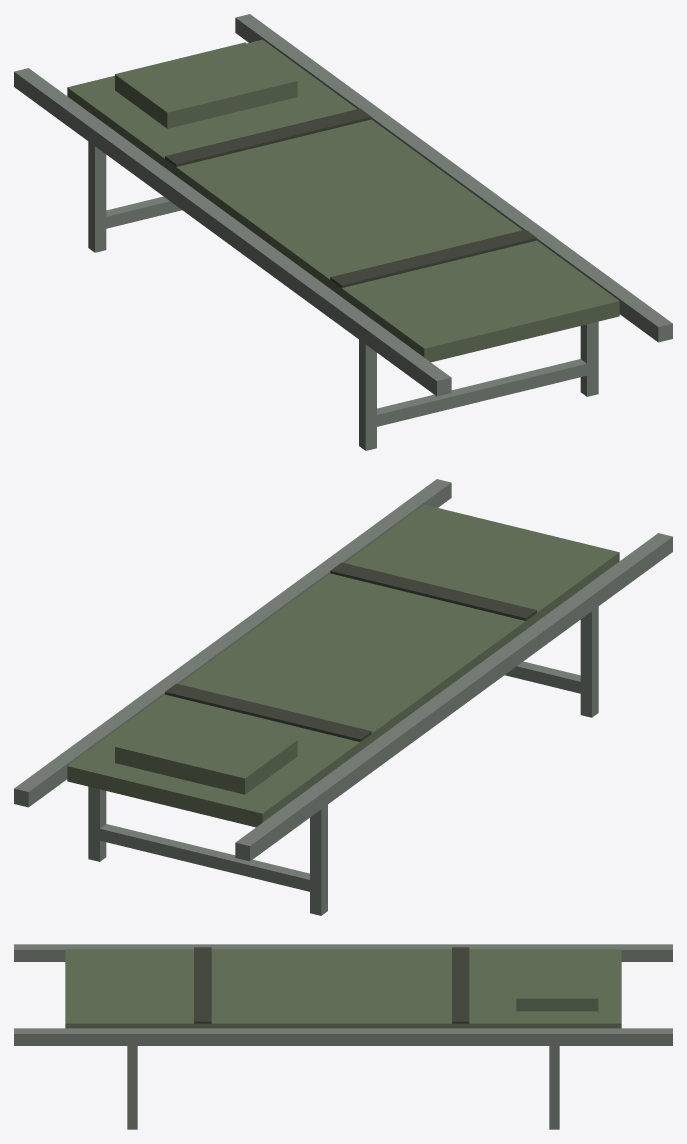
File: BCMM_Stretcher.fbx
3 renders of one model, top to bottom at view 1: azimuth 30°, elevation 25°; view 2: azimuth 150°, elevation 25°; view 3: azimuth 270°, elevation 25°, orthographic. The views are drawn at different scales.
Visible parts, largest first — view 1: BCMM_Stretcher; view 2: BCMM_Stretcher; view 3: BCMM_Stretcher.
Boxes of the visible parts, x1,y1,x2,y2 form: BCMM_Stretcher: [14, 14, 672, 450]; BCMM_Stretcher: [14, 479, 672, 915]; BCMM_Stretcher: [14, 944, 672, 1129].
Size of what is drawn, in the model's own units: 72.5 by 42 by 225.
